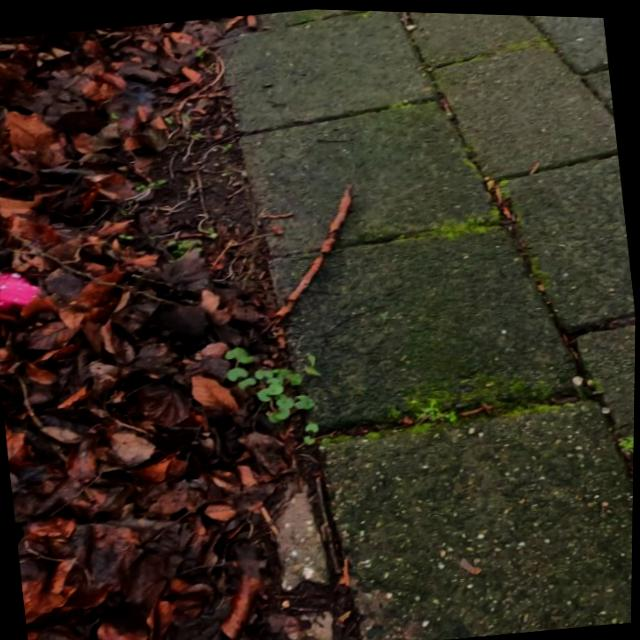Can-Metal: (0, 262, 48, 319)
